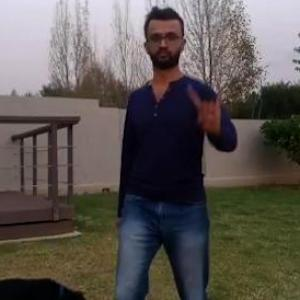takeoff-hand: (189, 74, 229, 136)
